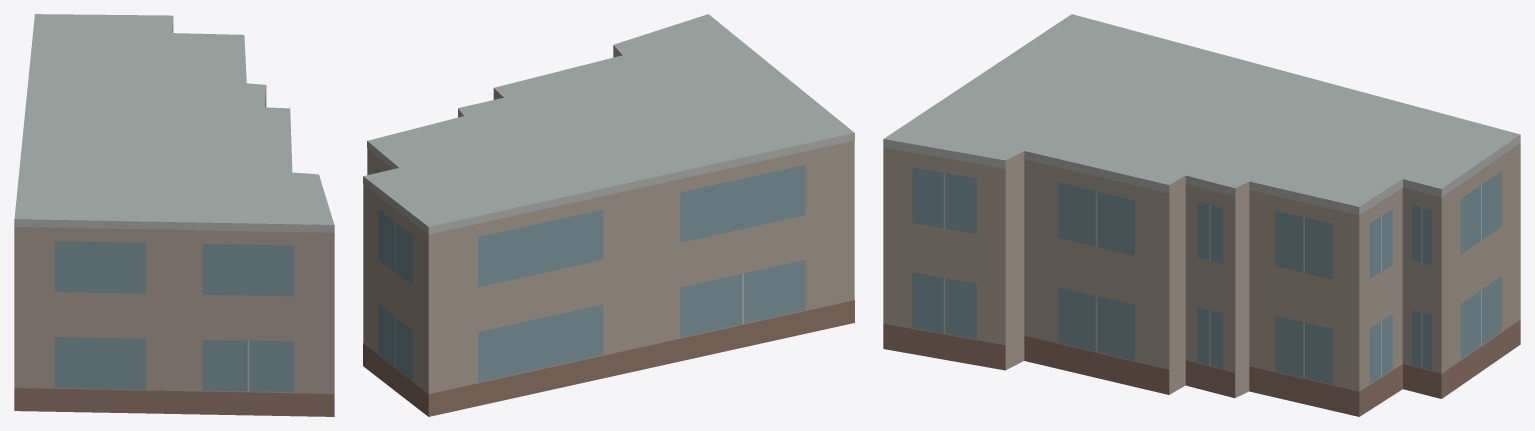
Rendered from survey-upis-32580600.glb.
3 renders of one model, left to right at view 1: azimuth 30°, elevation 25°; view 2: azimuth 150°, elevation 25°; view 3: azimuth 270°, elevation 25°, orthographic. The views are drawn at different scales.
Visible parts, largest first — view 1: survey-upis-32580600.tmp; view 2: survey-upis-32580600.tmp; view 3: survey-upis-32580600.tmp.
Part boxes in pixels (<box>): survey-upis-32580600.tmp: <box>14,14,334,416</box>; survey-upis-32580600.tmp: <box>363,14,854,416</box>; survey-upis-32580600.tmp: <box>883,14,1520,416</box>.
Bounding box in the file's own units: 12.03 × 6.1 × 16.79.
